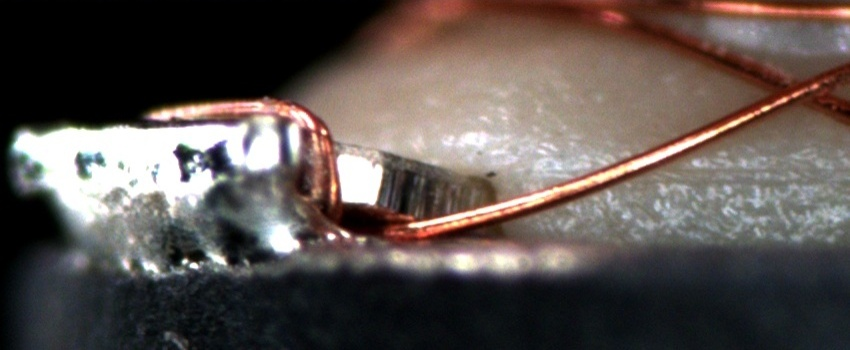CL: (753, 61, 843, 116)
DL: (534, 143, 850, 201)
TE: (139, 96, 343, 222)
